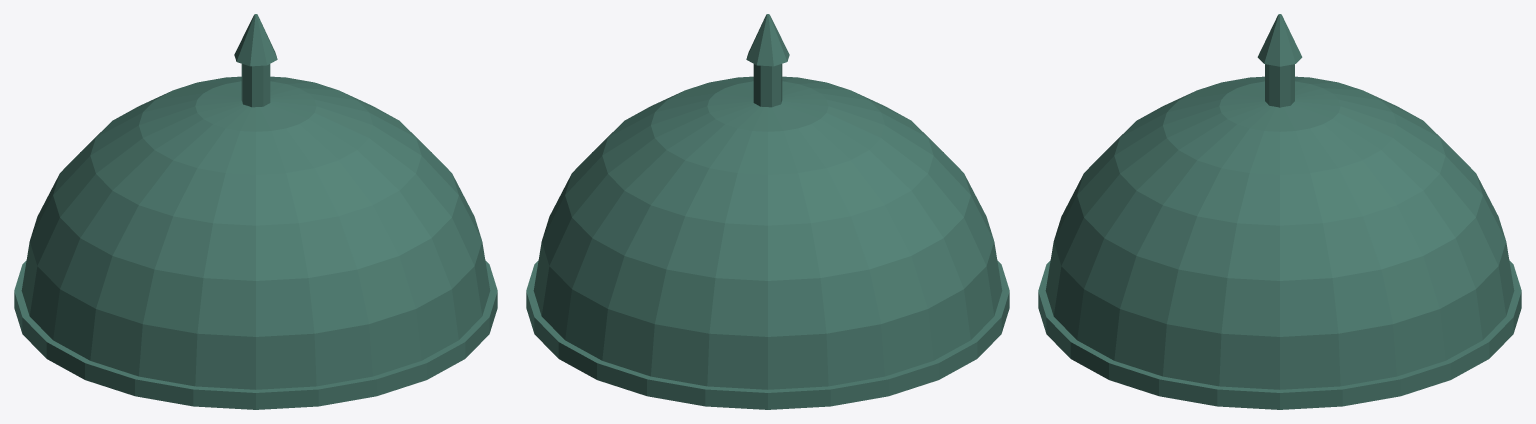
The model's file is roof_dome_d24.fbx.
The picture shows the model from 3 angles, left to right: view 1: azimuth 30°, elevation 25°; view 2: azimuth 150°, elevation 25°; view 3: azimuth 270°, elevation 25°; orthographic projection.
Parts seen in each view (by area): view 1: roof_dome_d24; view 2: roof_dome_d24; view 3: roof_dome_d24.
Boxes of the visible parts, <box> form: roof_dome_d24: <box>14,14,497,409</box>; roof_dome_d24: <box>526,14,1009,409</box>; roof_dome_d24: <box>1038,14,1521,409</box>.
Size of the model in its own units: 2580 by 1725 by 2580.
